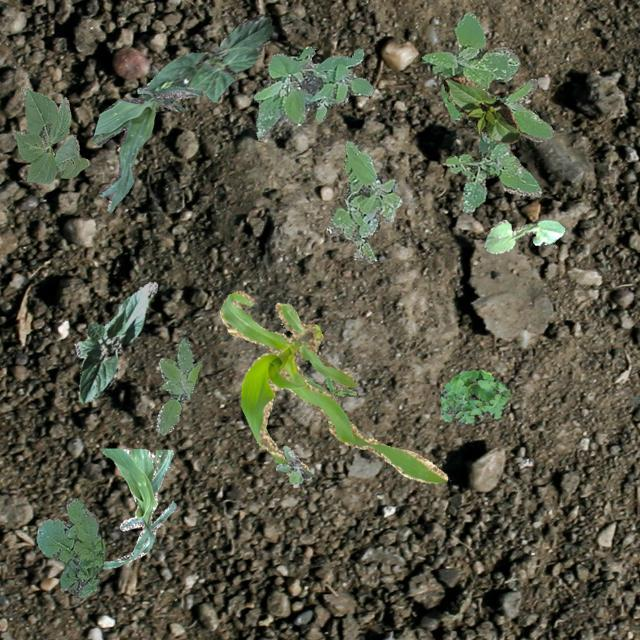crop: (218, 290, 446, 482), (90, 86, 204, 212), (144, 12, 272, 102), (74, 280, 156, 402), (101, 448, 176, 568), (12, 84, 88, 182), (442, 74, 520, 144), (484, 218, 564, 252)
weed: (421, 11, 554, 212), (252, 46, 372, 140), (326, 140, 400, 262), (36, 498, 104, 596), (156, 336, 200, 434), (439, 369, 508, 424), (274, 444, 314, 482), (302, 374, 356, 400)
